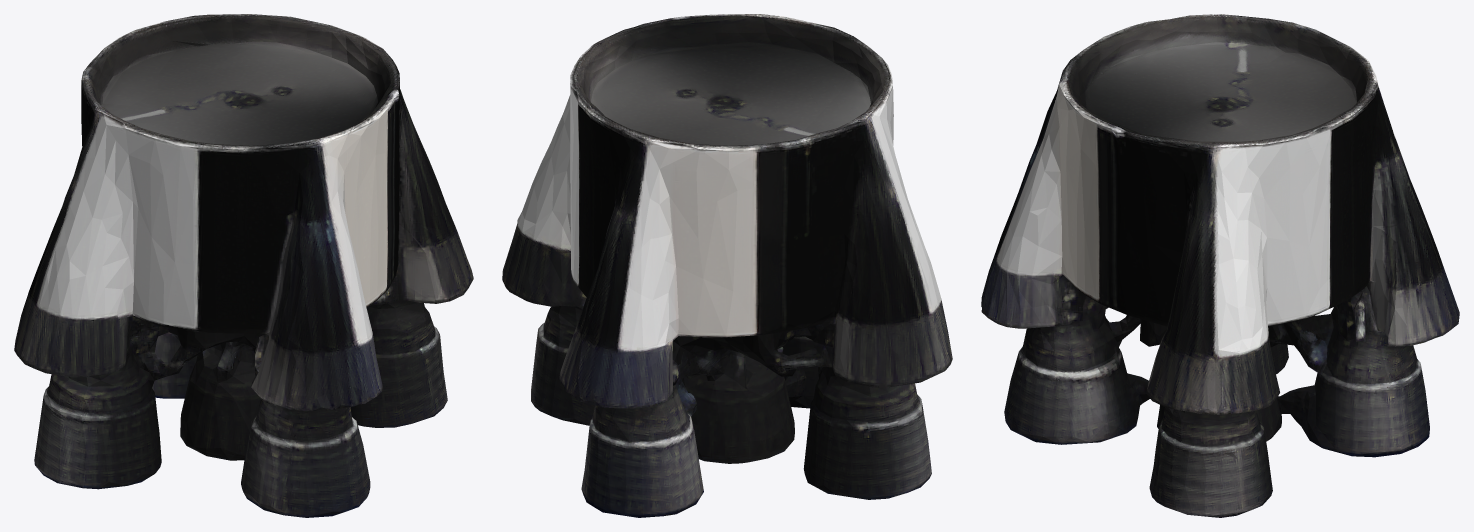
3 views of the same model, side by side, from view 1: azimuth 30°, elevation 25°; view 2: azimuth 150°, elevation 25°; view 3: azimuth 270°, elevation 25° (orthographic). The views are drawn at different scales.
Visible parts, largest first — view 1: world; view 2: world; view 3: world.
Boxes of the visible parts, box(x1,y1,x2,y2) form: world: box(14, 14, 473, 517); world: box(502, 14, 952, 517); world: box(981, 14, 1459, 517).
Bounding box in the file's own units: 0.4084 × 0.3214 × 0.399.
Materials: 1 (1 with a texture image).
